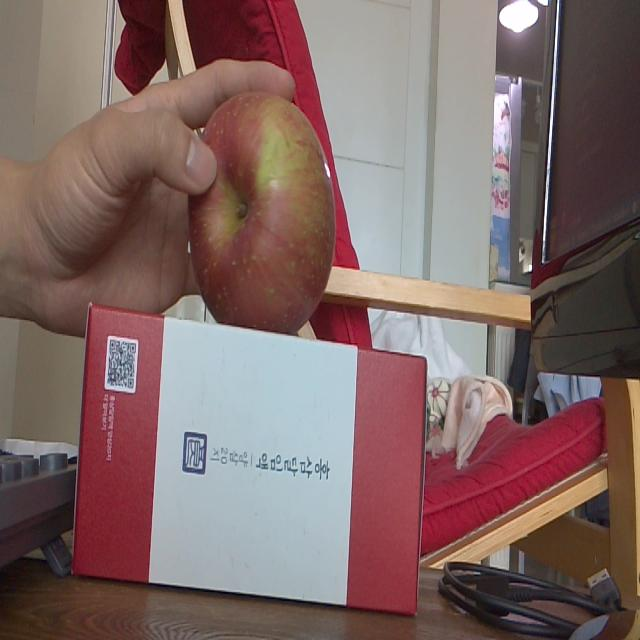apple: (189, 93, 336, 321)
